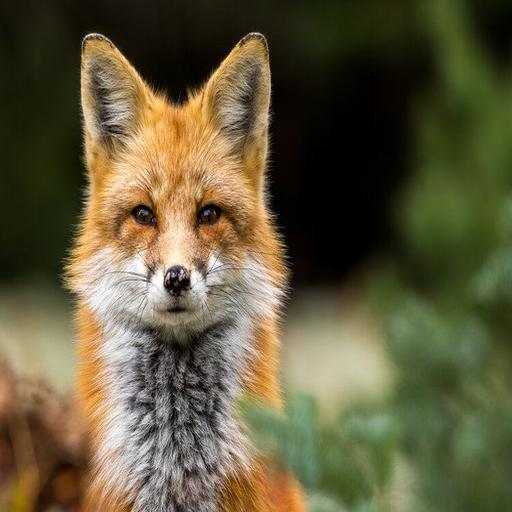Fox: (66, 31, 294, 508)
